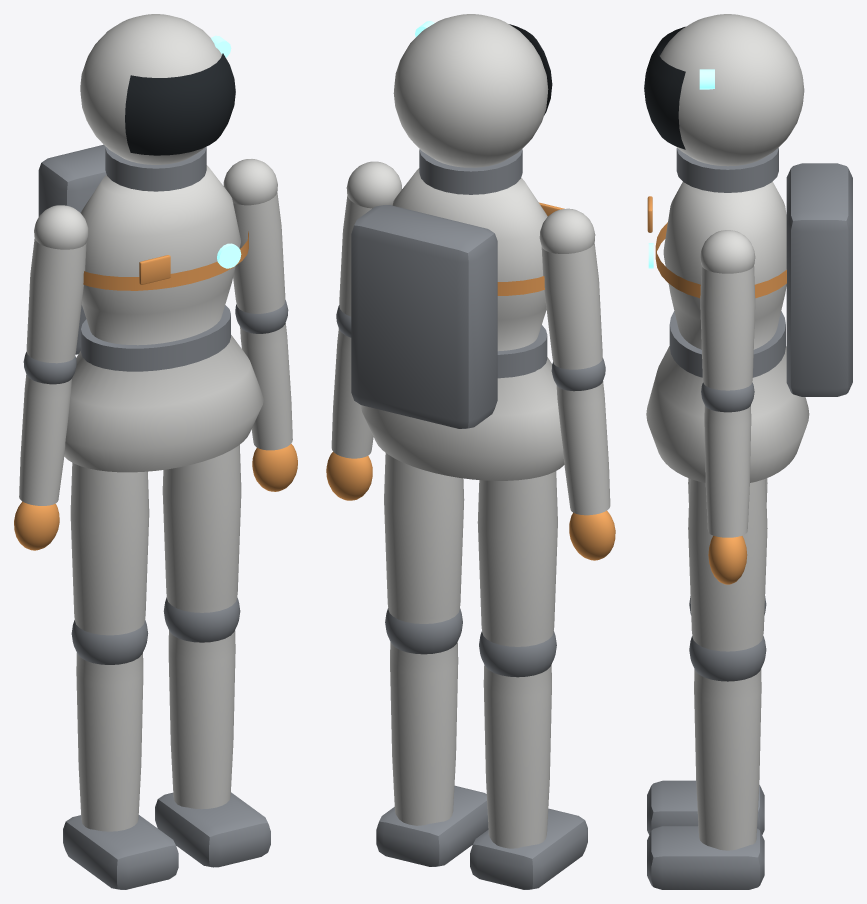
Rendered from crew_f.glb.
The picture shows the model from 3 angles, left to right: view 1: azimuth 30°, elevation 25°; view 2: azimuth 150°, elevation 25°; view 3: azimuth 270°, elevation 25°; orthographic projection.
Visible parts, largest first — view 1: C_torso, C_legL, C_legR, C_head, C_armL, C_armR; view 2: C_torso, C_legL, C_legR, C_head, C_armL, C_armR; view 3: C_torso, C_legR, C_head, C_armR, C_legL.
Boxes of the visible parts, x1,y1,x2,y2 form: C_torso: (38,144,263,472); C_legL: (63,463,178,889); C_legR: (155,444,270,867); C_head: (80,14,235,191); C_armL: (14,205,88,550); C_armR: (223,159,297,491); C_torso: (351,168,564,480); C_legL: (470,471,587,889); C_legR: (376,453,488,866); C_head: (393,14,552,194); C_armL: (539,208,615,560); C_armR: (326,161,401,500); C_torso: (646,163,852,482); C_legR: (647,479,767,889); C_head: (644,14,804,192); C_armR: (700,230,755,584); C_legL: (647,478,767,834).
Size of the model in its own units: 0.6379 by 1.8 by 0.409.
